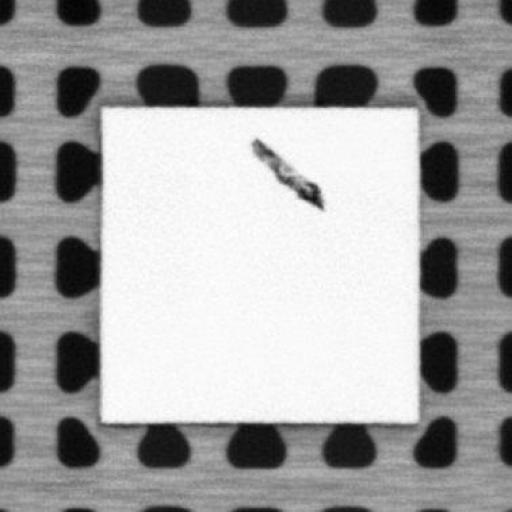DIE_INK: (248, 132, 322, 214)
